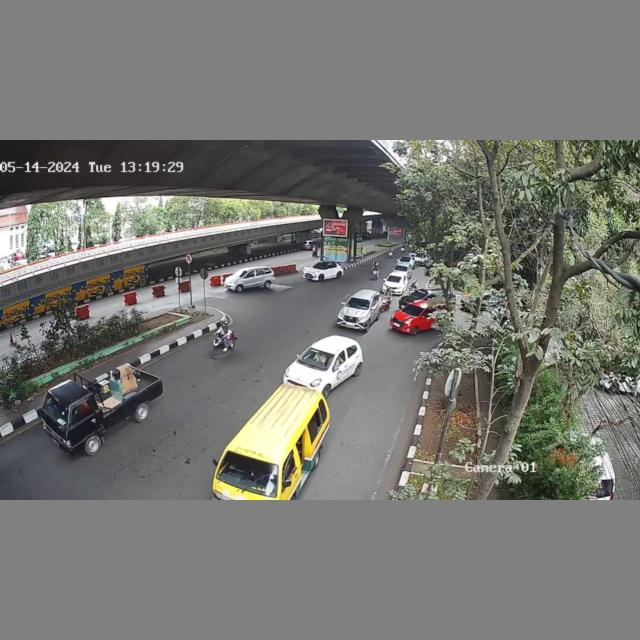windshield: (213, 451, 284, 498), (300, 347, 334, 369)
